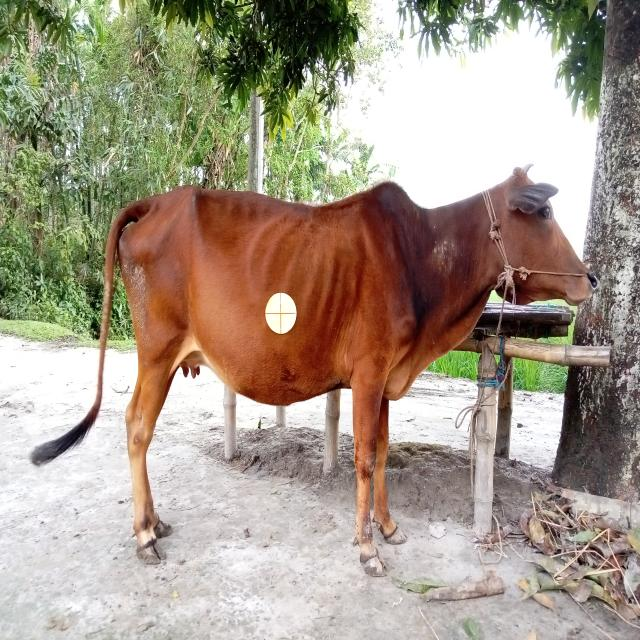badan_sapi: (123, 195, 427, 399)
sapi: (37, 148, 609, 582)
